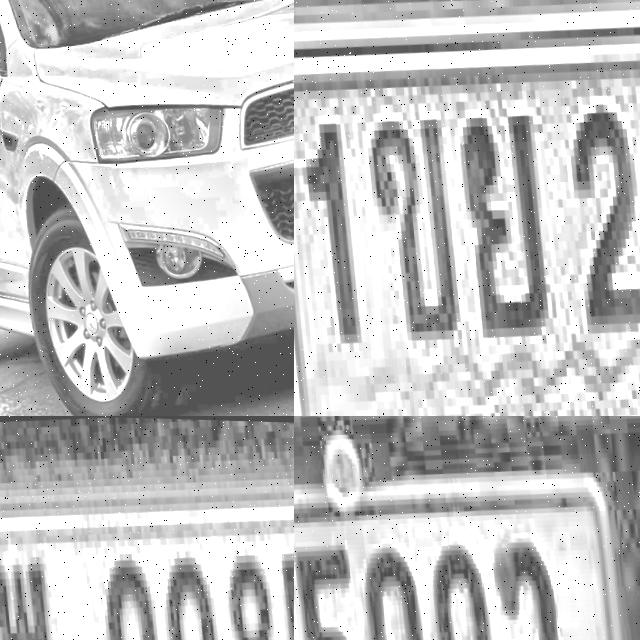license-plate: (294, 0, 640, 416), (294, 434, 640, 640), (0, 436, 294, 640)
